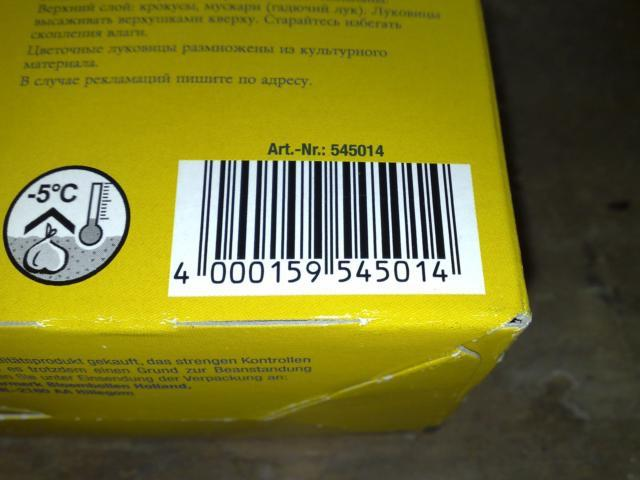Barcode: (164, 158, 489, 296)
